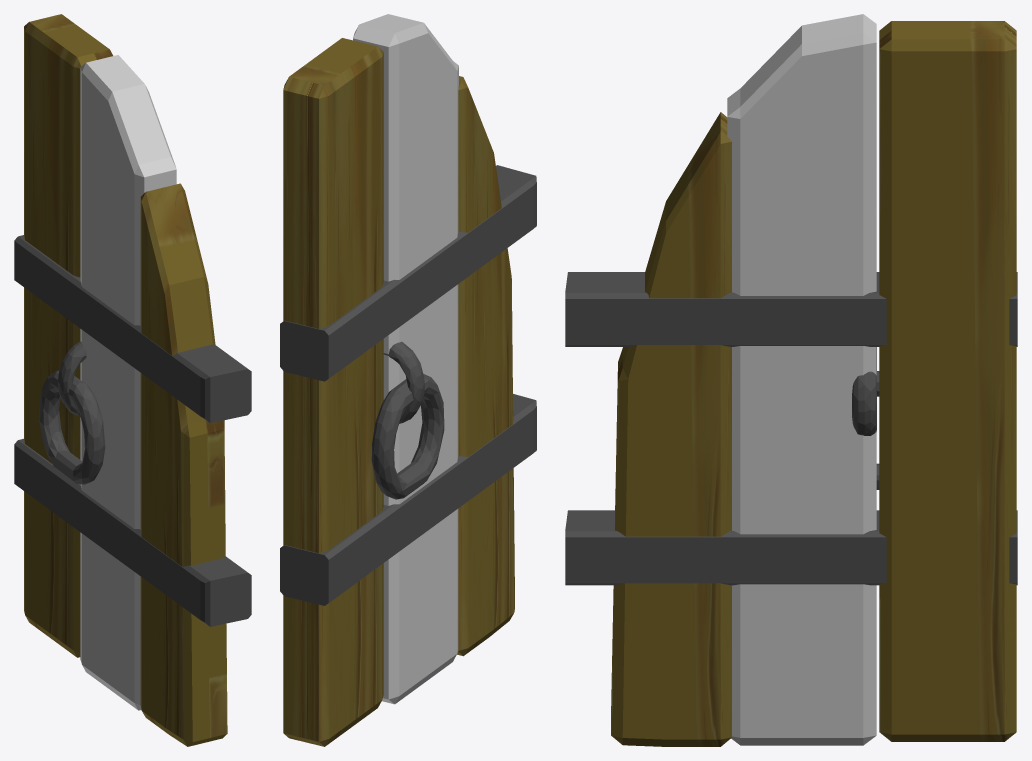
Rendered from DoorLeft.fbx.
3 views of the same model, side by side, from view 1: azimuth 30°, elevation 25°; view 2: azimuth 150°, elevation 25°; view 3: azimuth 270°, elevation 25° (orthographic). The views are drawn at different scales.
Visible parts, largest first — view 1: WallWoodV.331; view 2: WallWoodV.331; view 3: WallWoodV.331.
Part boxes in pixels (x1=…): WallWoodV.331: x1=14, y1=14, x2=251, y2=746; WallWoodV.331: x1=280, y1=14, x2=536, y2=746; WallWoodV.331: x1=565, y1=14, x2=1017, y2=746.
Size of the model in its own units: 16.46 by 137 by 78.67.
